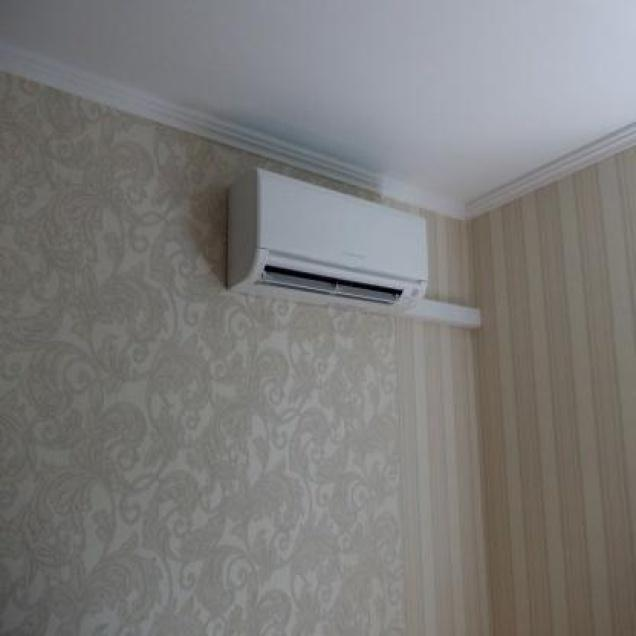AC: (223, 166, 429, 315)
